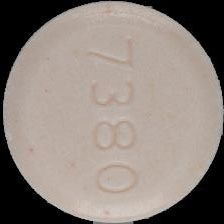21695-716: (0, 0, 224, 224)
